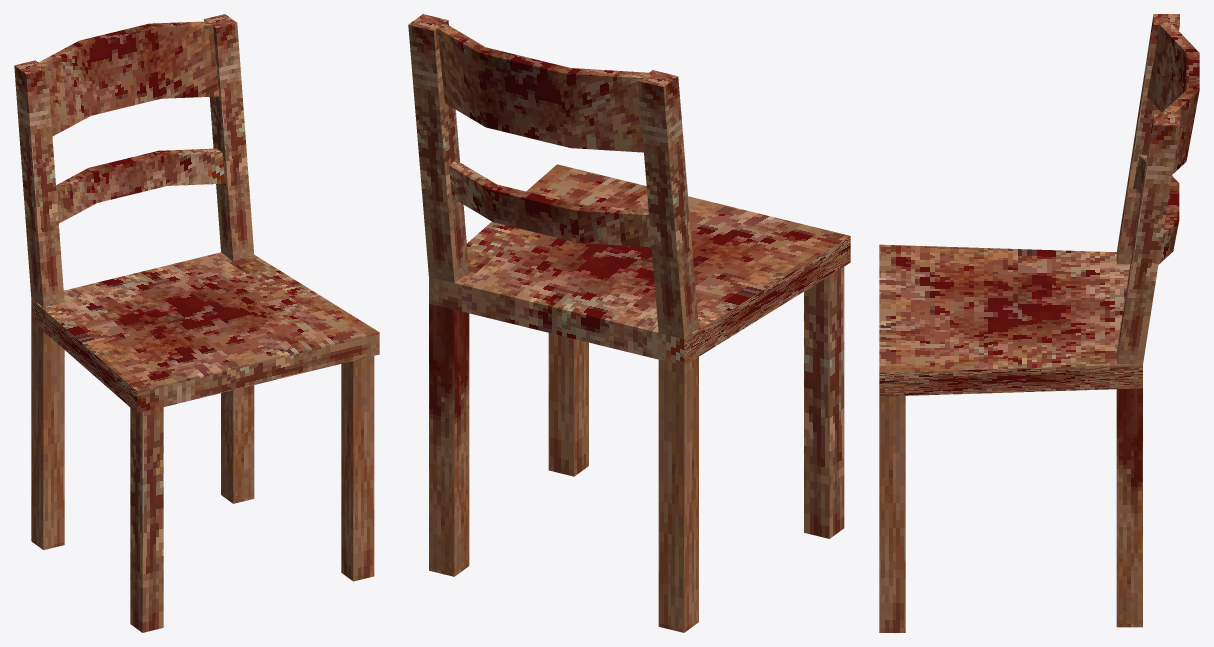
File: TORTURECHAIR01.glb
3 renders of one model, left to right at view 1: azimuth 30°, elevation 25°; view 2: azimuth 150°, elevation 25°; view 3: azimuth 270°, elevation 25°, orthographic. The views are drawn at different scales.
Visible parts, largest first — view 1: TORTURECHAIR01; view 2: TORTURECHAIR01; view 3: TORTURECHAIR01.
Part boxes in pixels (x1=…): TORTURECHAIR01: x1=14, y1=14, x2=379, y2=632; TORTURECHAIR01: x1=408, y1=14, x2=850, y2=632; TORTURECHAIR01: x1=879, y1=14, x2=1199, y2=632.
Size of the model in its own units: 0.46 by 0.84 by 0.486.
1 material, 1 textured.
